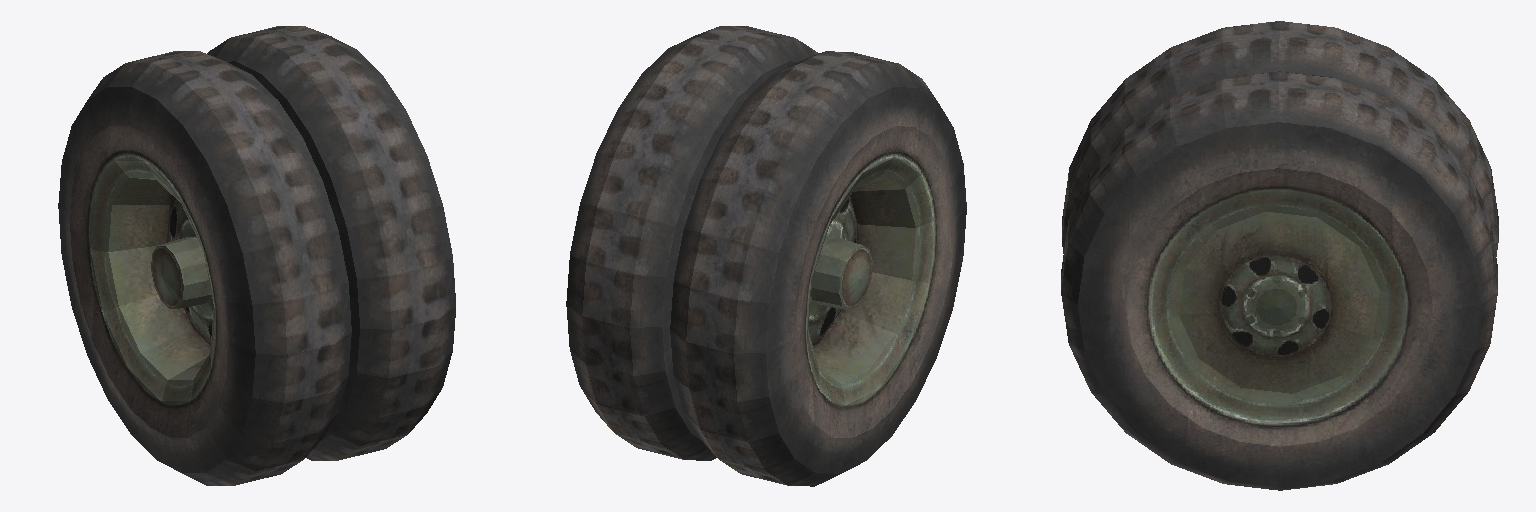
The picture shows the model from 3 angles: view 1: azimuth 30°, elevation 25°; view 2: azimuth 150°, elevation 25°; view 3: azimuth 270°, elevation 25°; orthographic projection.
Parts seen in each view (by area): view 1: armytruck.004; view 2: armytruck.004; view 3: armytruck.004.
Boxes of the visible parts, x1,y1,x2,y2 form: armytruck.004: [58, 26, 455, 485]; armytruck.004: [566, 26, 966, 486]; armytruck.004: [1061, 21, 1498, 490].
Size of the model in its own units: 0.5303 by 0.9382 by 0.9403.
1 materials, 1 textured.